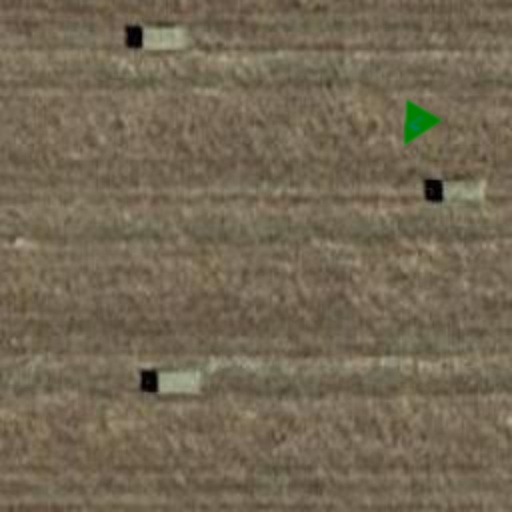triangle: (384, 98, 444, 158)
